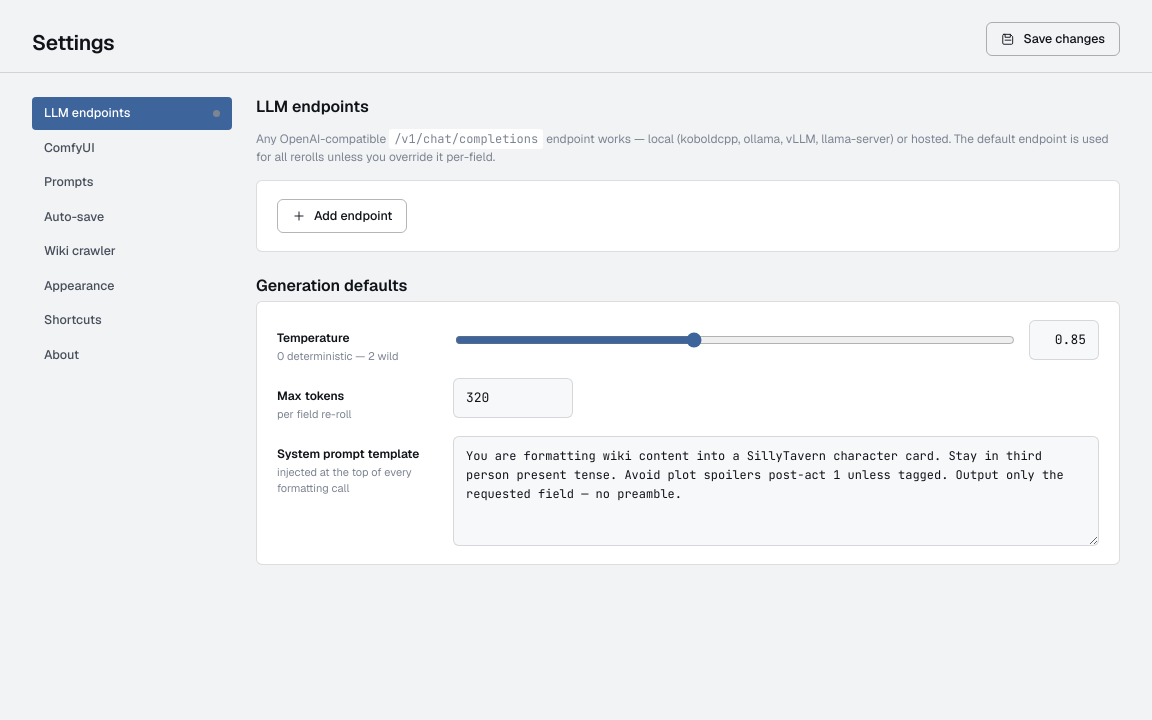
Test: SettingsScreen › opens flyout in new endpoint mode on "Add endpoint" click
This screenshot has width=1152, height=720.
Step 1. Click the button "Add endpoint" → click(342, 216), box [277, 199, 408, 233]
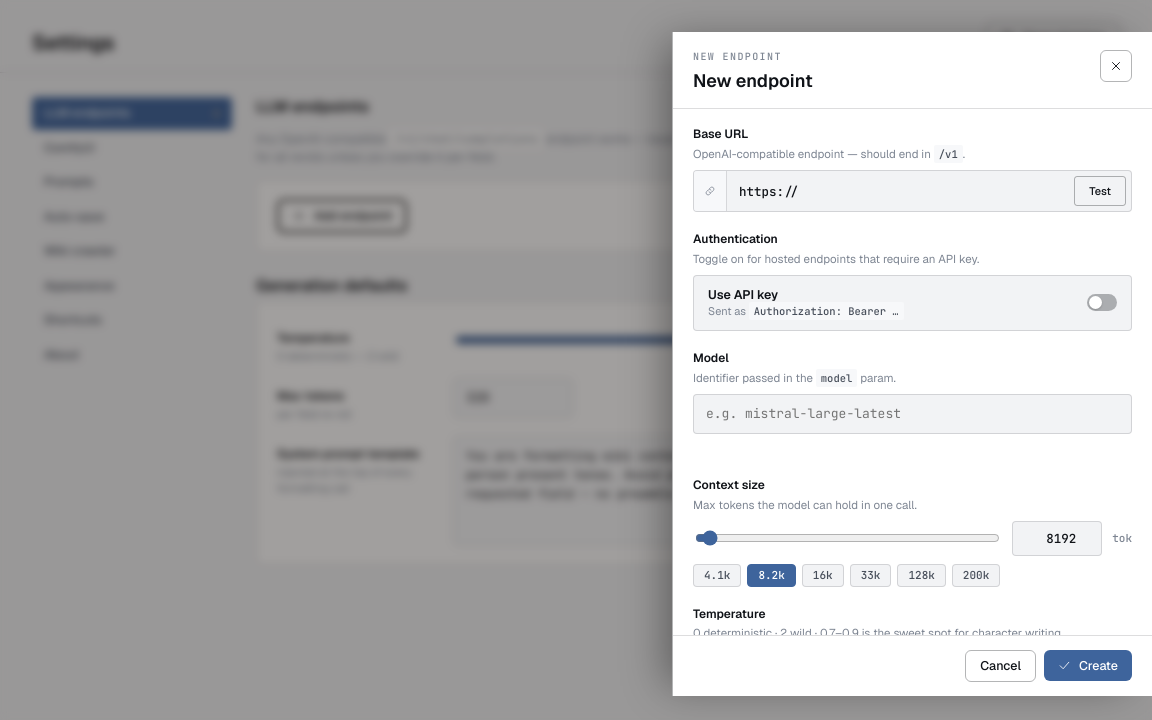
Check: the text "New endpoint" is shown, box [693, 50, 782, 63]
Check: the button "Create" is shown, box [1044, 650, 1132, 681]
